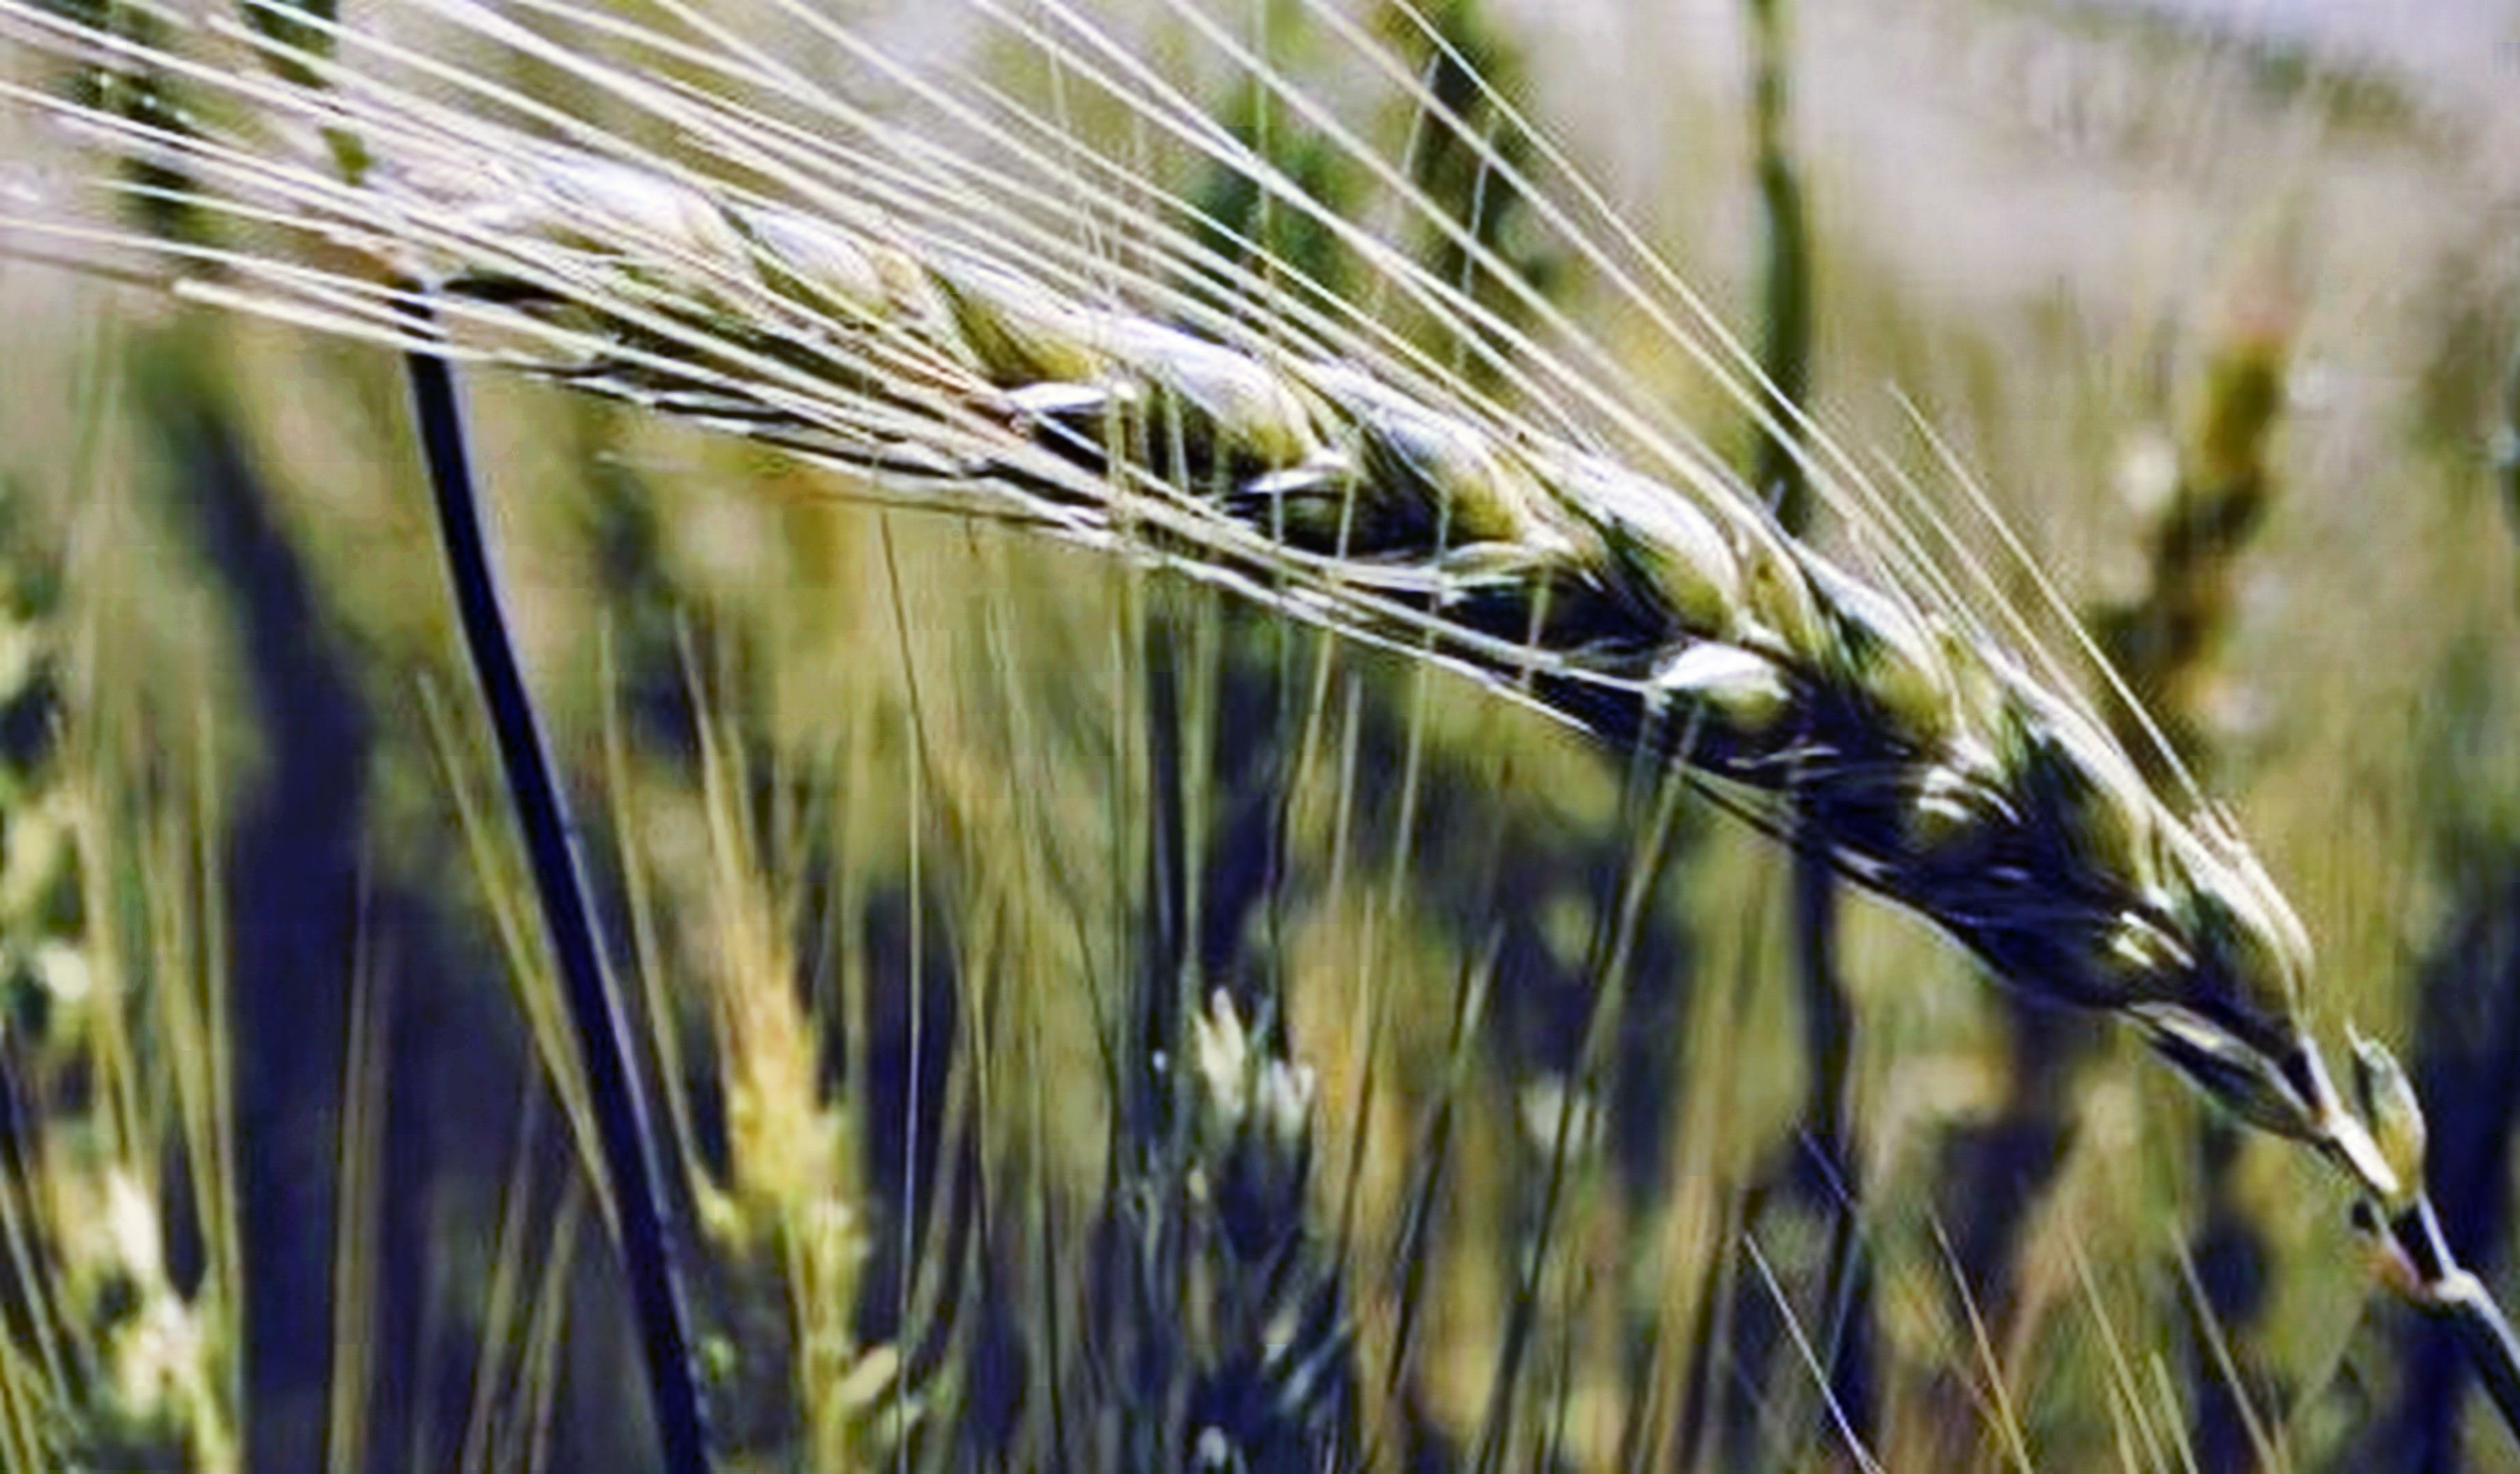Healthy Wheat: (437, 167, 2520, 1204)
